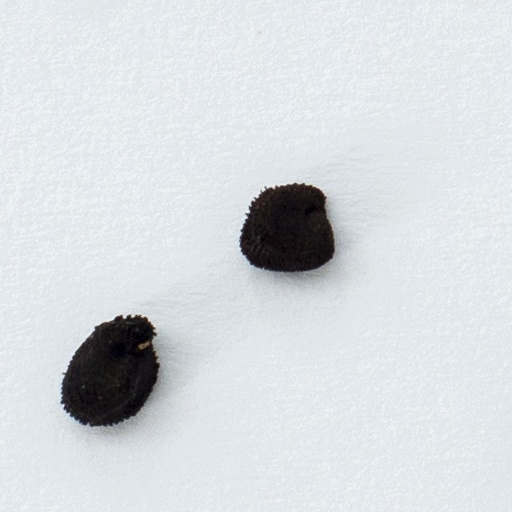Agrostemma: (61, 312, 160, 430), (239, 179, 339, 274)
